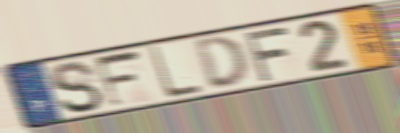2: (301, 18, 354, 77)
D: (191, 34, 251, 91)
F: (91, 47, 145, 111), (241, 23, 291, 84)
L: (146, 44, 205, 102)
S: (47, 60, 106, 116)
